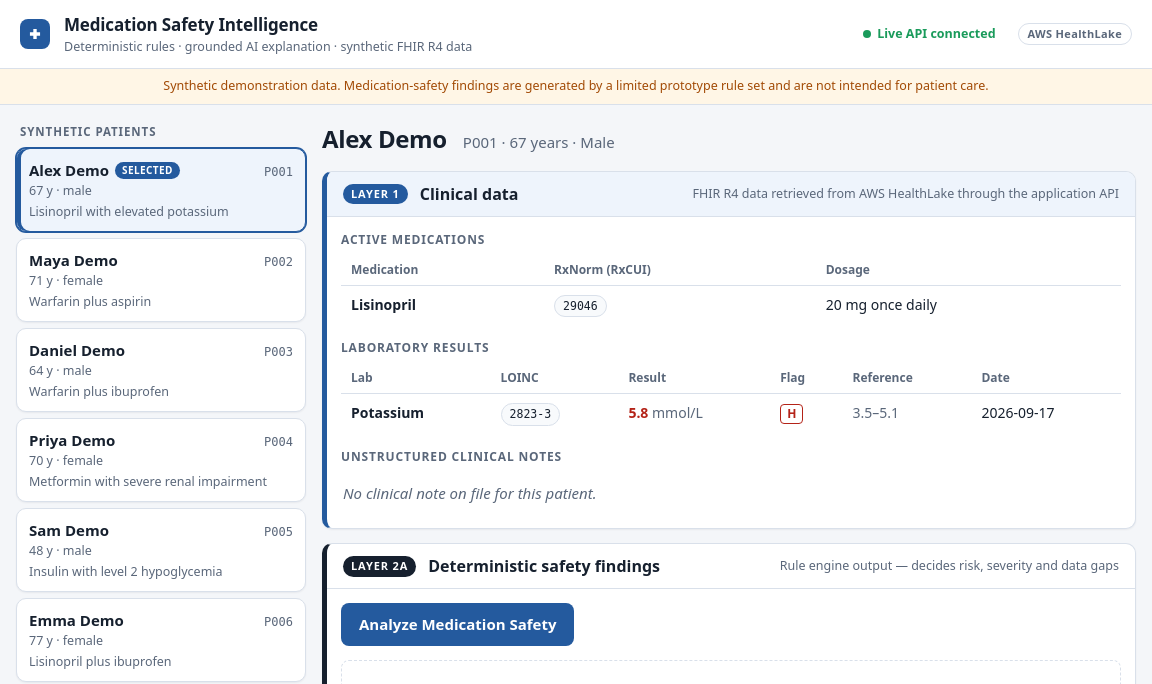
Test: explicit save to the clinical FHIR store (never automatic) › shows a clear message, not an error, when write-back is disabled (409)
The image size is (1152, 684).
Step 1. Click the button "Analyze Medication Safety" → point(458, 625), box [341,603,574,646]
(page scrolled)
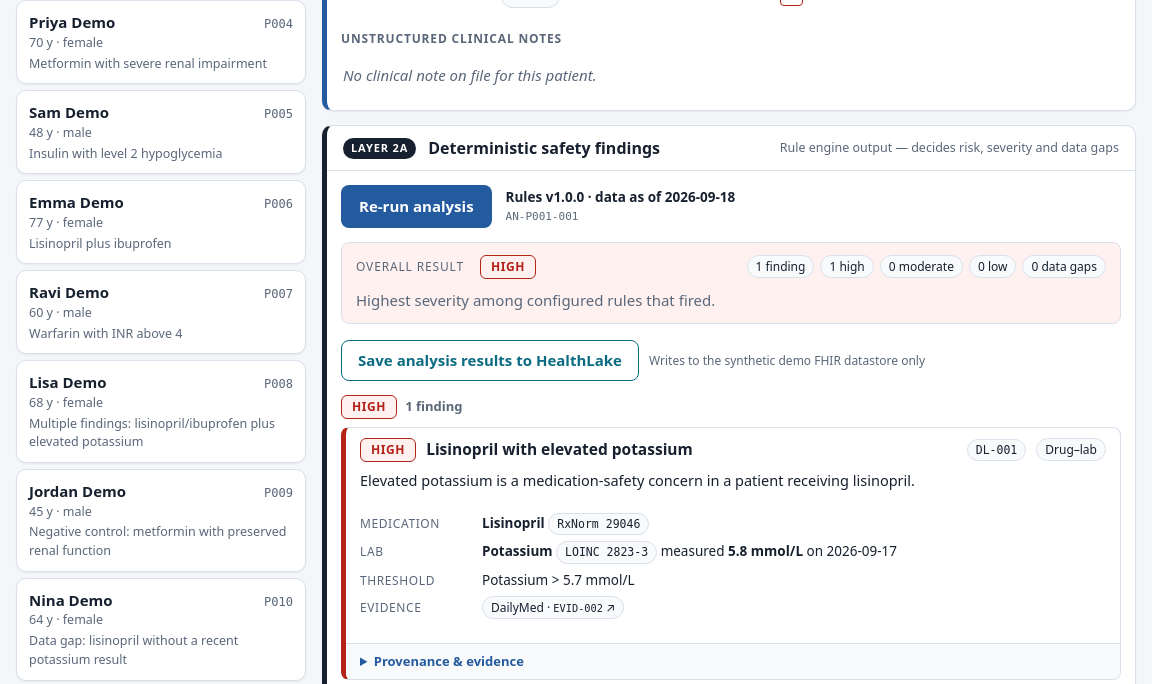
Step 2. Click the button "Save analysis results to HealthLake" → point(490, 361), box [341,340,639,381]
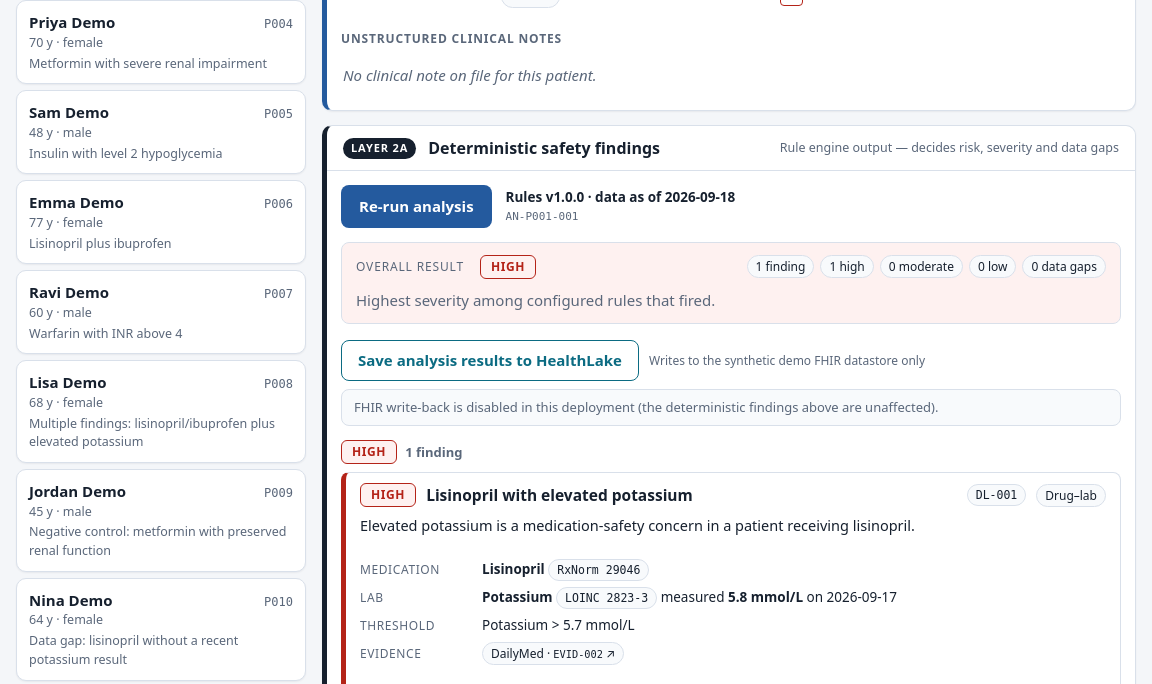
Now the text "FHIR write-back is disabled" is shown, box [354,398,938,416]
